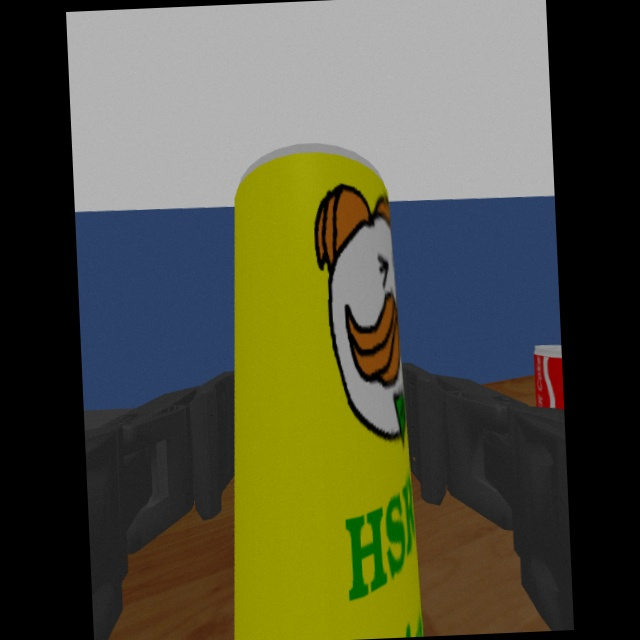chipsdose_gelb: (235, 143, 424, 640)
